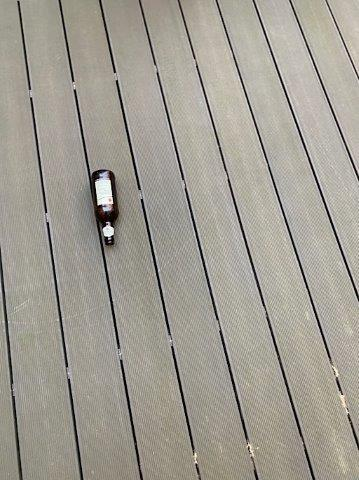botolkaca: (92, 169, 118, 246)
